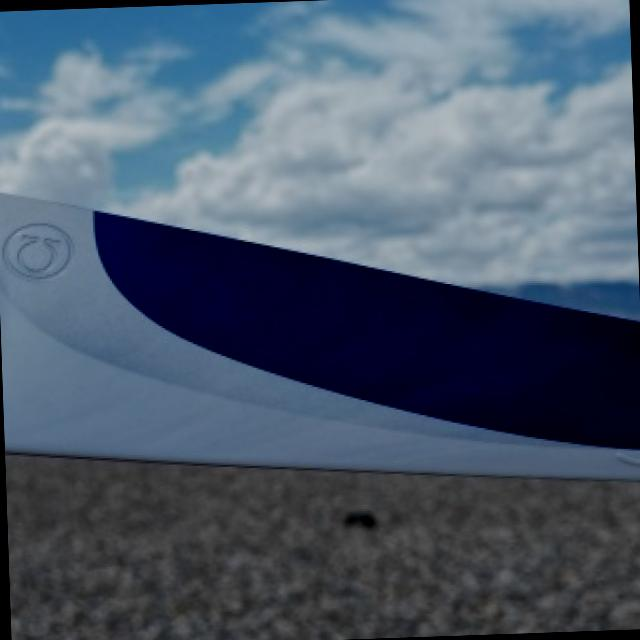healthy: (0, 190, 640, 475)
